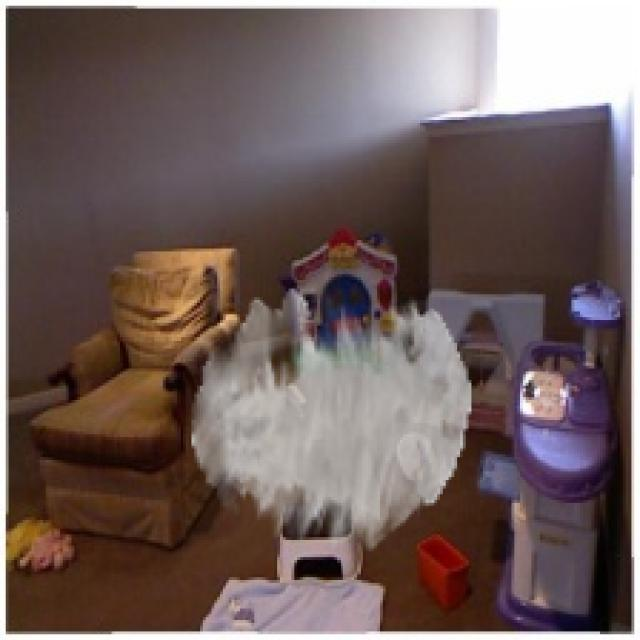smoke: (192, 289, 472, 554)
